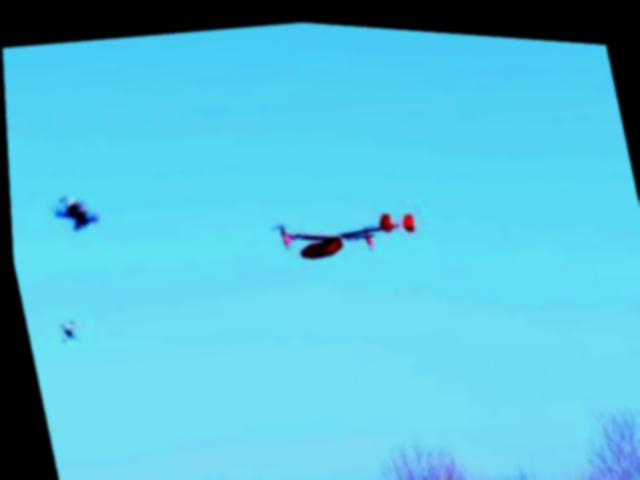uav: (262, 180, 423, 286)
